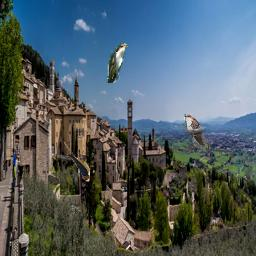Cuckoo: (184, 114, 214, 154), (107, 43, 128, 83)
Swallow: (64, 142, 90, 182)
